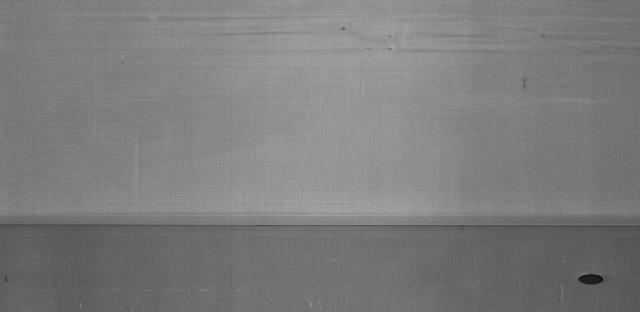punching_hole: (573, 268, 614, 292)
welding_line: (3, 214, 639, 244)
